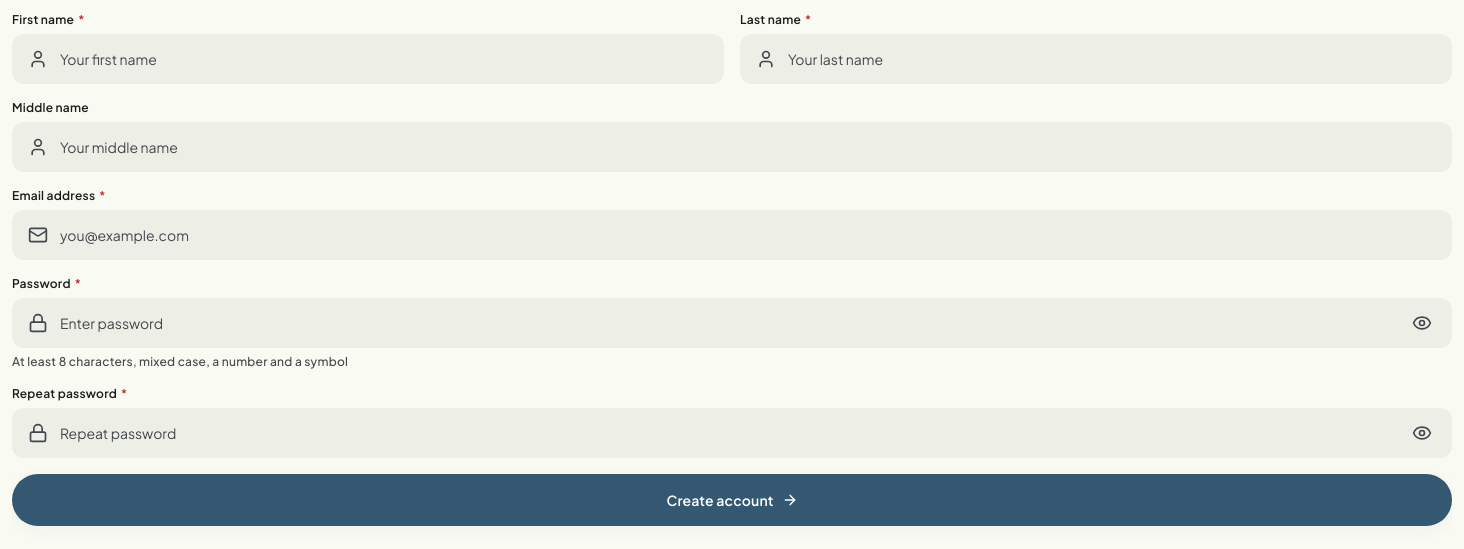
Test: RegisterForm › rates Chores12!abc as Strong
Type "Chores12!abc" into the password field labelled "Password" at (732, 323), box [12, 298, 1452, 348]
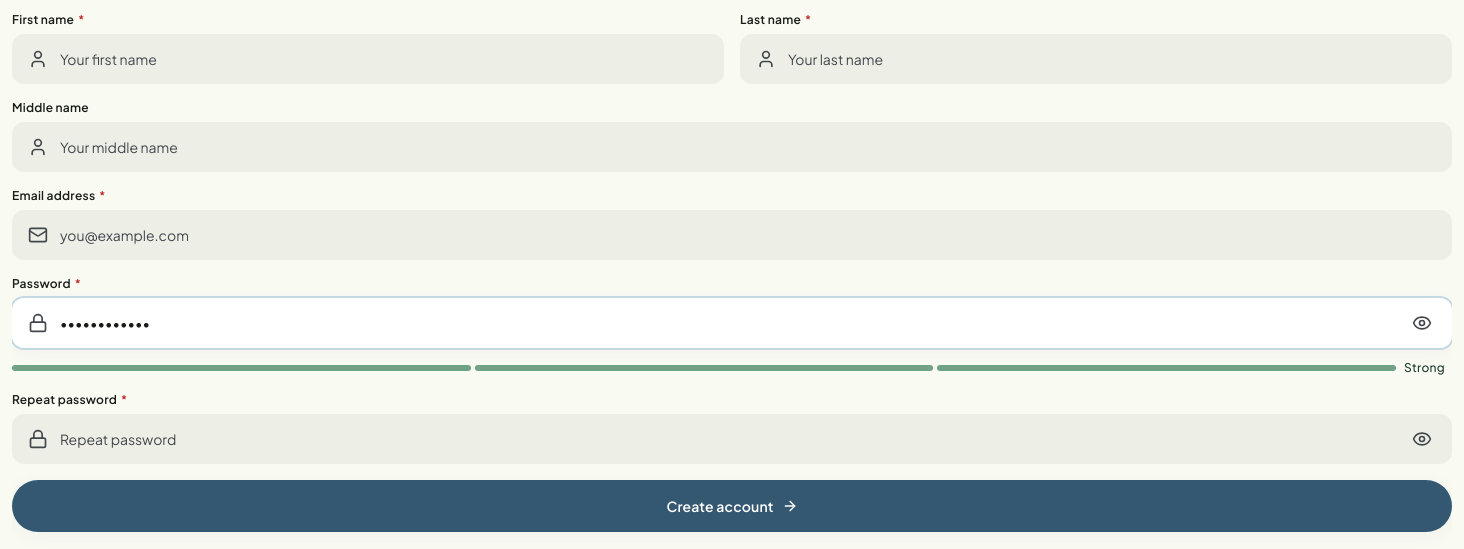
Now the text "Strong" is shown, box [1404, 360, 1452, 376]
